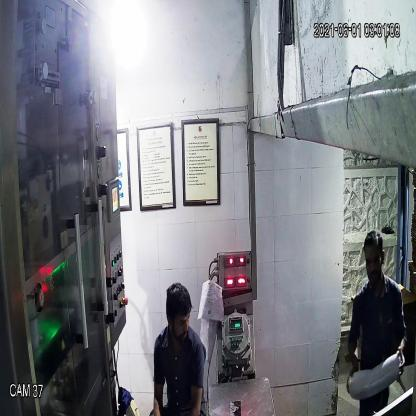no_goggles: (164, 310, 193, 332), (362, 250, 386, 272)
